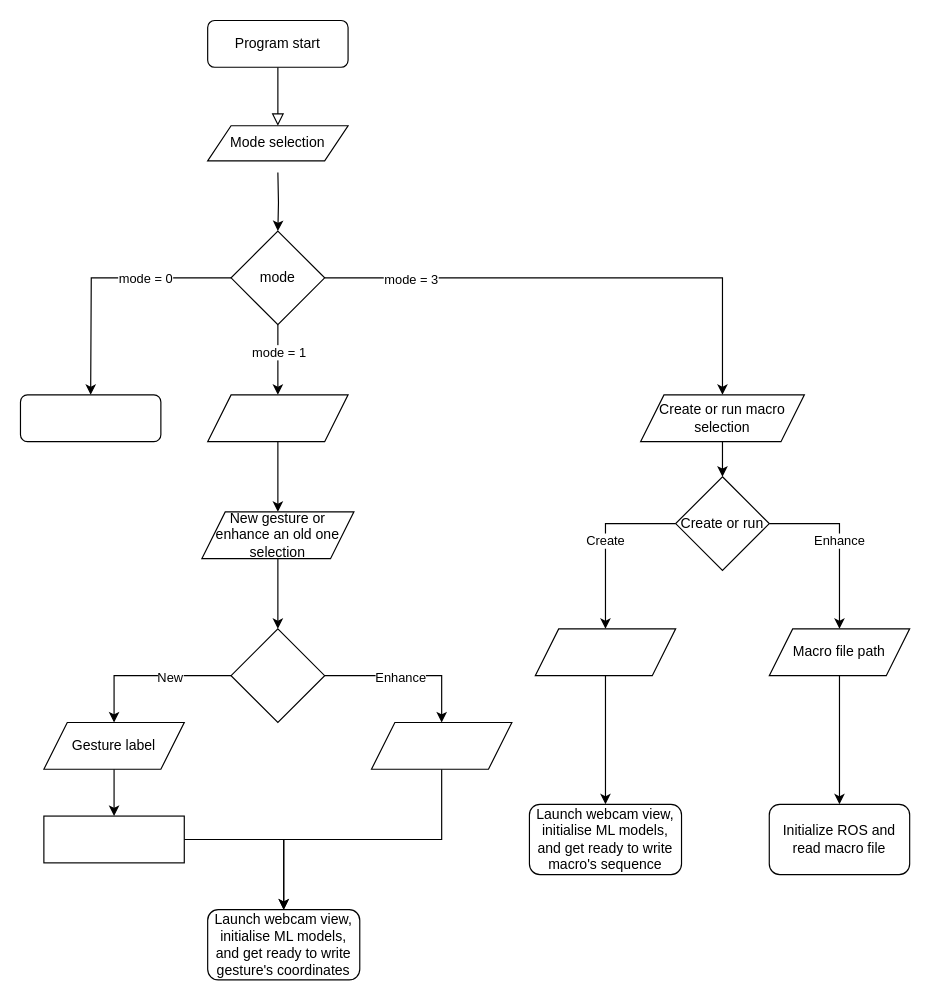
Image size: 930x1000. Some labels were removed from this diagram. Here are the shapes that lost their labels. From the top down, the box of each, then its label:
(19, 394, 161, 442): Launch webcam view, initialize ML models, and ROS
(207, 394, 348, 442): Dataset selection
(534, 628, 676, 676): Macro name
(230, 628, 325, 722): New or enhance
(370, 721, 512, 769): Gesture id
(43, 815, 184, 863): Write new gesture data on files
